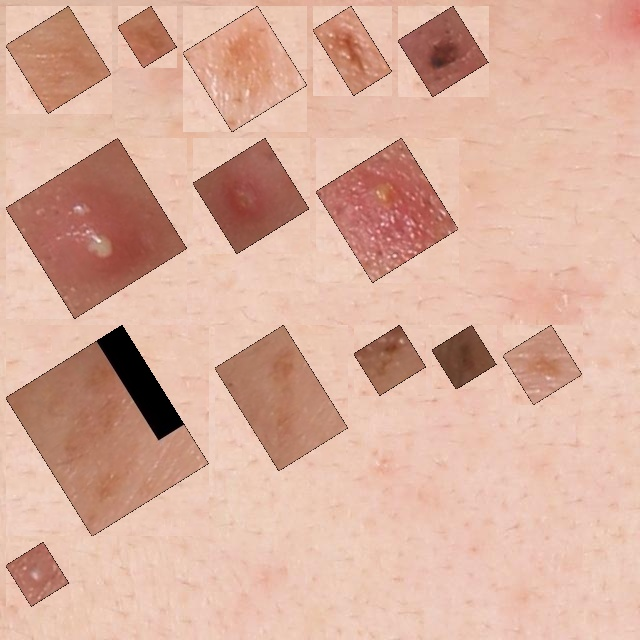melasma: (17, 336, 198, 525), (226, 336, 337, 460), (194, 17, 296, 120), (17, 17, 100, 102), (514, 336, 571, 393), (365, 336, 415, 384), (129, 17, 165, 56)
nevus: (409, 17, 477, 85), (324, 17, 381, 84), (443, 336, 485, 378)
pustule: (17, 149, 176, 307), (327, 149, 447, 271), (204, 149, 298, 242), (17, 553, 58, 595)
